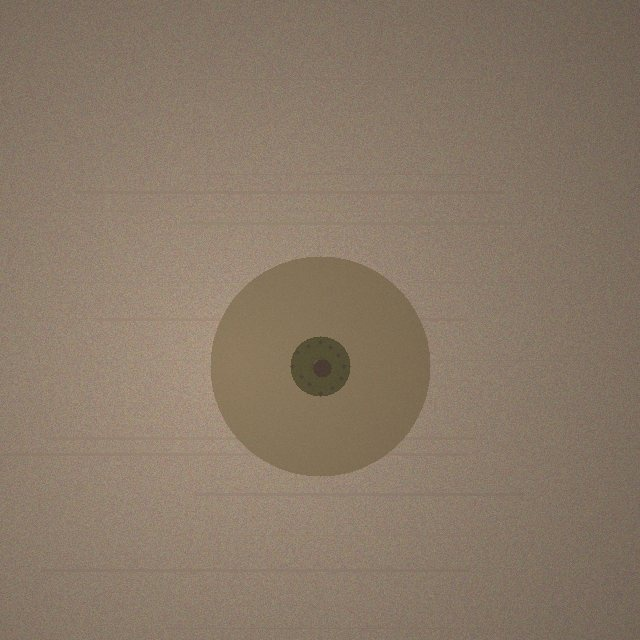cold_weld: (210, 256, 430, 476)
